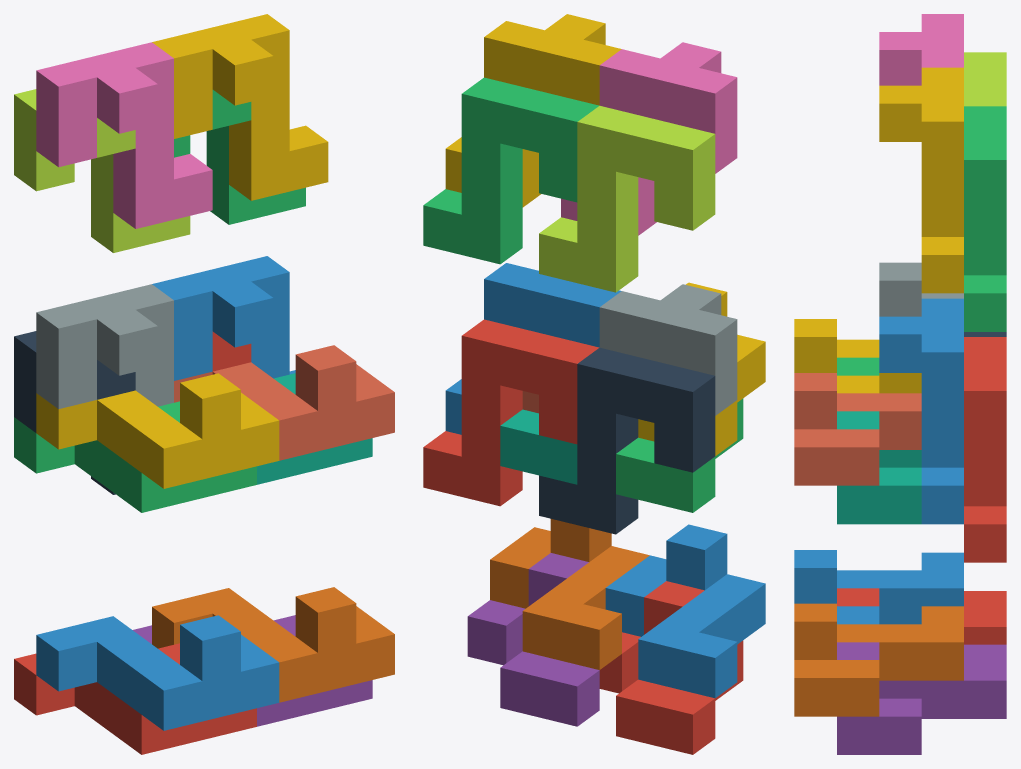
The model's file is tiling.obj.
The picture shows the model from 3 angles, left to right: view 1: azimuth 30°, elevation 25°; view 2: azimuth 150°, elevation 25°; view 3: azimuth 270°, elevation 25°; orthographic projection. The views are drawn at different scales.
Parts seen in each view (by area): view 1: copy_2_domain_4, copy_1_domain_2, copy_2_domain_8, copy_1_domain_4, copy_1_domain_6, copy_2_domain_2, copy_2_domain_6, copy_1_domain_8, copy_2_domain_3, copy_1_domain_1, copy_1_domain_3, copy_2_domain_7 (+4 smaller); view 2: copy_2_domain_3, copy_2_domain_1, copy_2_domain_7, copy_2_domain_5, copy_1_domain_2, copy_1_domain_6, copy_2_domain_4, copy_1_domain_5, copy_2_domain_2, copy_2_domain_8, copy_1_domain_1, copy_2_domain_6 (+3 smaller); view 3: copy_1_domain_6, copy_2_domain_6, copy_2_domain_8, copy_1_domain_8, copy_1_domain_5, copy_2_domain_5, copy_2_domain_7, copy_1_domain_2, copy_1_domain_7, copy_1_domain_4, copy_2_domain_4, copy_1_domain_1 (+3 smaller).
Part boxes in pixels (x1,y1,x2,y2): copy_2_domain_4: (36,42,212,228); copy_1_domain_2: (36,615,279,730); copy_2_domain_8: (152,14,328,200); copy_1_domain_4: (36,373,279,488); copy_1_domain_6: (152,587,394,702); copy_2_domain_2: (36,284,173,409); copy_2_domain_6: (152,256,295,380); copy_1_domain_8: (174,345,394,460); copy_2_domain_3: (14,89,190,252); copy_1_domain_1: (14,643,256,754); copy_1_domain_3: (14,401,256,512); copy_2_domain_7: (174,90,305,224); copy_2_domain_3: (539,105,715,292); copy_2_domain_1: (539,347,715,534); copy_2_domain_7: (423,77,598,264); copy_2_domain_5: (423,319,599,506); copy_1_domain_2: (605,524,765,698); copy_1_domain_6: (490,519,649,669); copy_2_domain_4: (561,42,737,235); copy_1_domain_5: (467,553,599,726); copy_2_domain_2: (599,284,737,415); copy_2_domain_8: (445,14,621,207); copy_1_domain_1: (599,581,743,754); copy_2_domain_6: (445,263,621,434); copy_1_domain_6: (794,603,963,716); copy_2_domain_6: (879,298,963,524); copy_2_domain_8: (879,67,963,293); copy_1_domain_8: (794,373,921,485); copy_1_domain_5: (837,642,1006,754); copy_2_domain_5: (964,337,1006,562); copy_2_domain_7: (964,106,1006,331); copy_1_domain_2: (794,550,963,624); copy_1_domain_7: (837,411,921,524); copy_1_domain_4: (794,319,921,393); copy_2_domain_4: (879,14,963,85); copy_1_domain_1: (837,588,1006,644).
Bounding box in the file's own units: 7 × 16 × 5.
